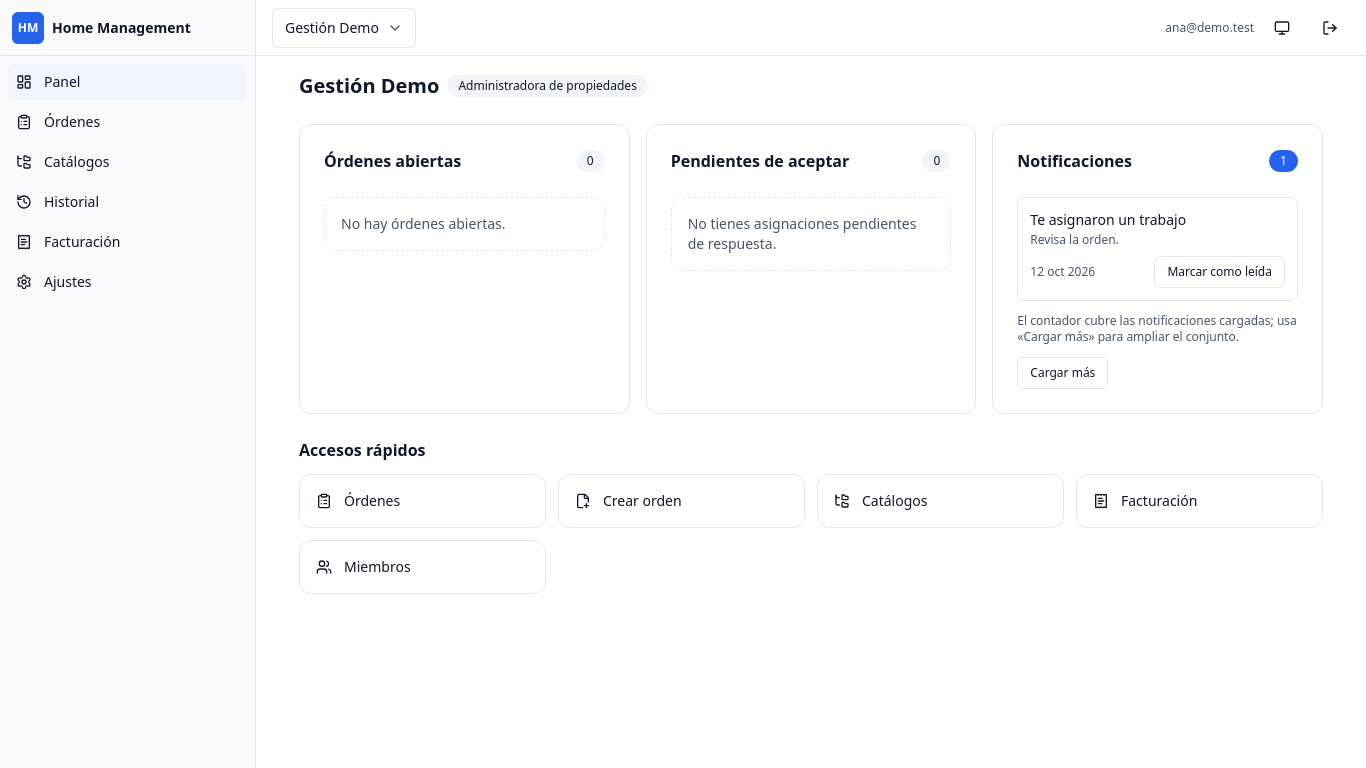
Test: dashboard screen (spec F2) › loads the next notification page through the cursor
Click the button "Cargar más" at (1063, 373), box [1017, 357, 1108, 389]
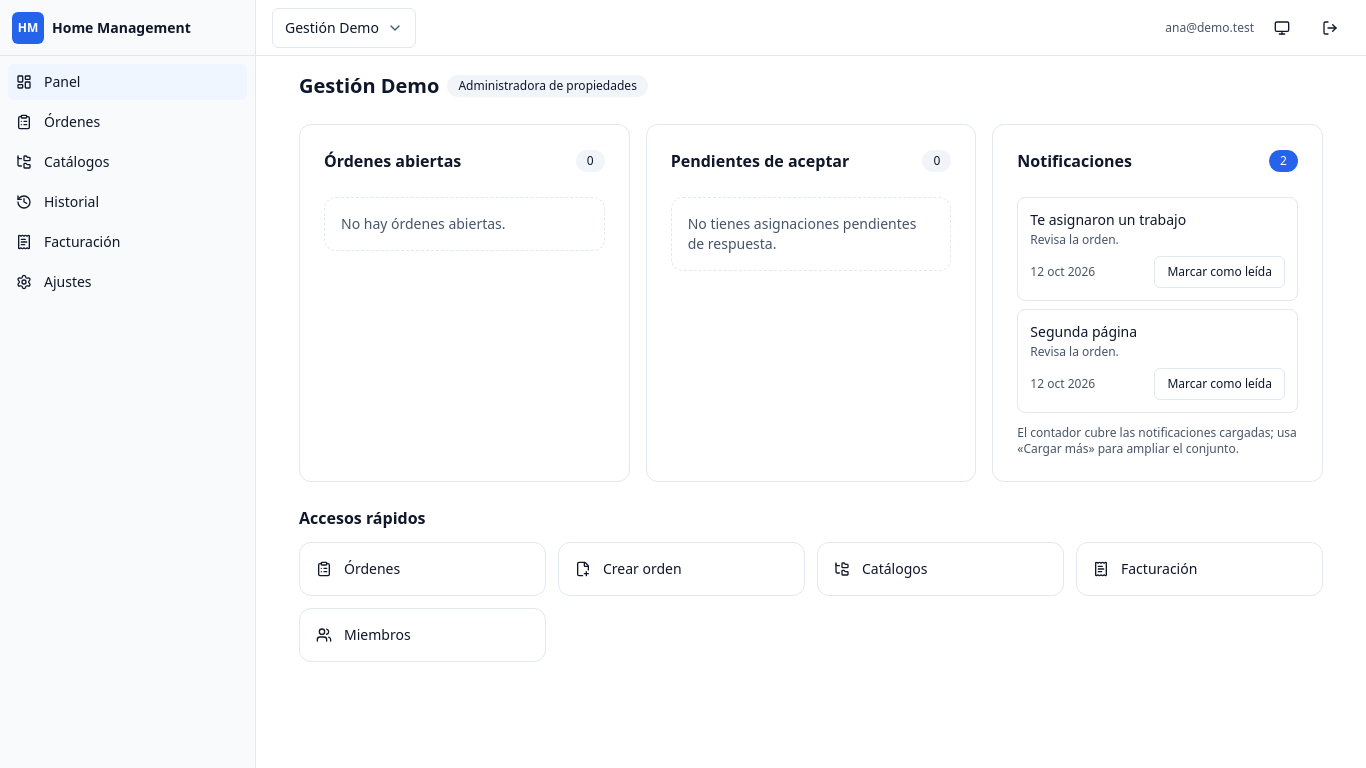
expect the text "Segunda página" is shown: met, box [1030, 322, 1137, 341]
